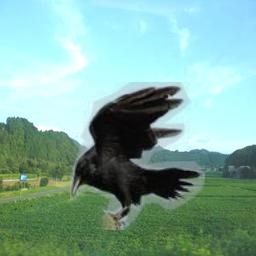Crow: (70, 82, 205, 230)
